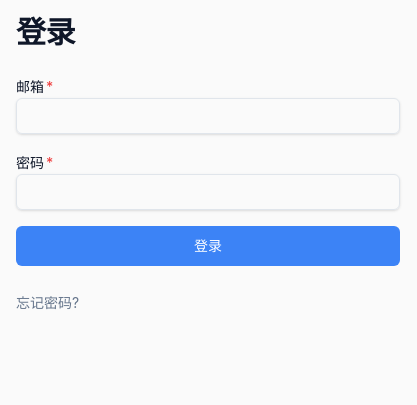
Test: LoginPage › 输错密码 → 顶部错误 '邮箱或密码错'
In the field with test id "email-input": (208, 116) [16,98,400,134], type "wrong@x.com"
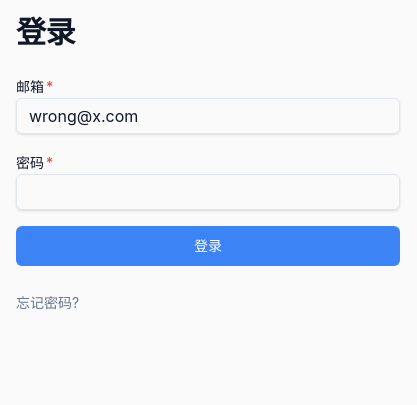
In the password field with test id "password-input": (208, 192) [16,174,400,210], type "wrong-pw"
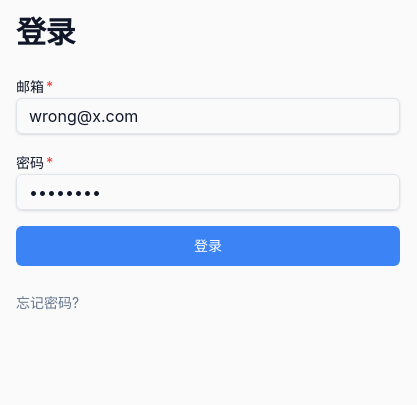
Click the button with test id "login-submit": click(208, 246) [16,226,400,266]
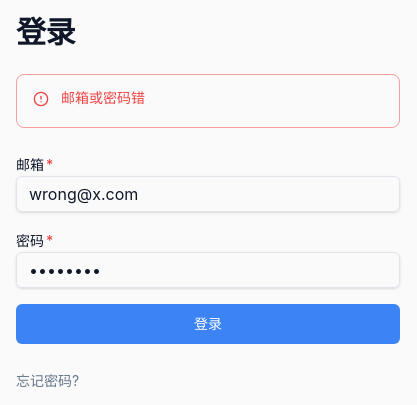
Check: the text "邮箱或密码错" is shown, box [61,89,145,106]
